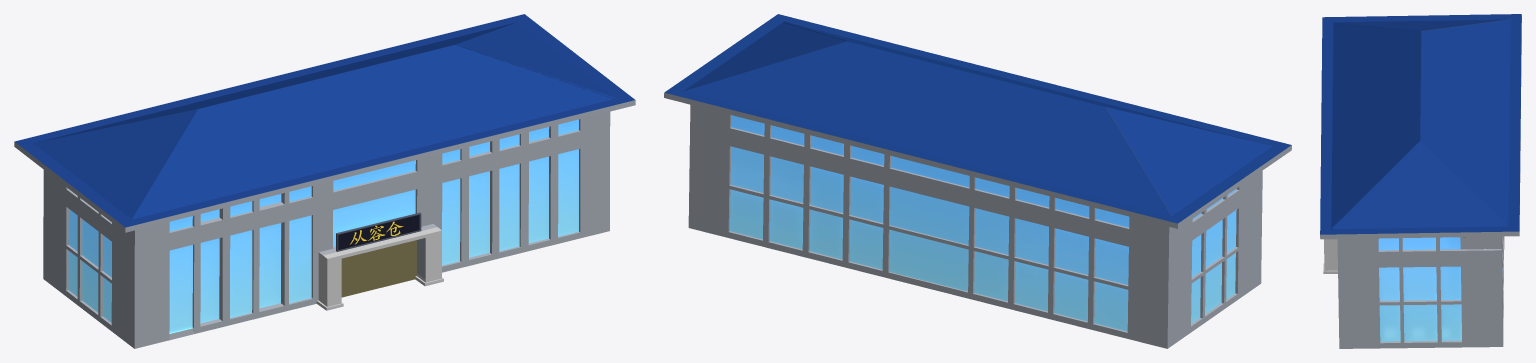
The model's file is jiuku3.glb.
3 renders of one model, left to right at view 1: azimuth 30°, elevation 25°; view 2: azimuth 150°, elevation 25°; view 3: azimuth 270°, elevation 25°, orthographic. The views are drawn at different scales.
Parts seen in each view (by area): view 1: 2号酒库.004, 2号酒库.001; view 2: 2号酒库.004; view 3: 2号酒库.004.
Part boxes in pixels (x1,y1,x2,y2): 2号酒库.004: (14,14,635,348); 2号酒库.001: (338,215,419,250); 2号酒库.004: (664,14,1291,348); 2号酒库.004: (1320,14,1521,348).
Size of the model in its own units: 176 by 60.38 by 67.64.
7 materials, 2 textured.
